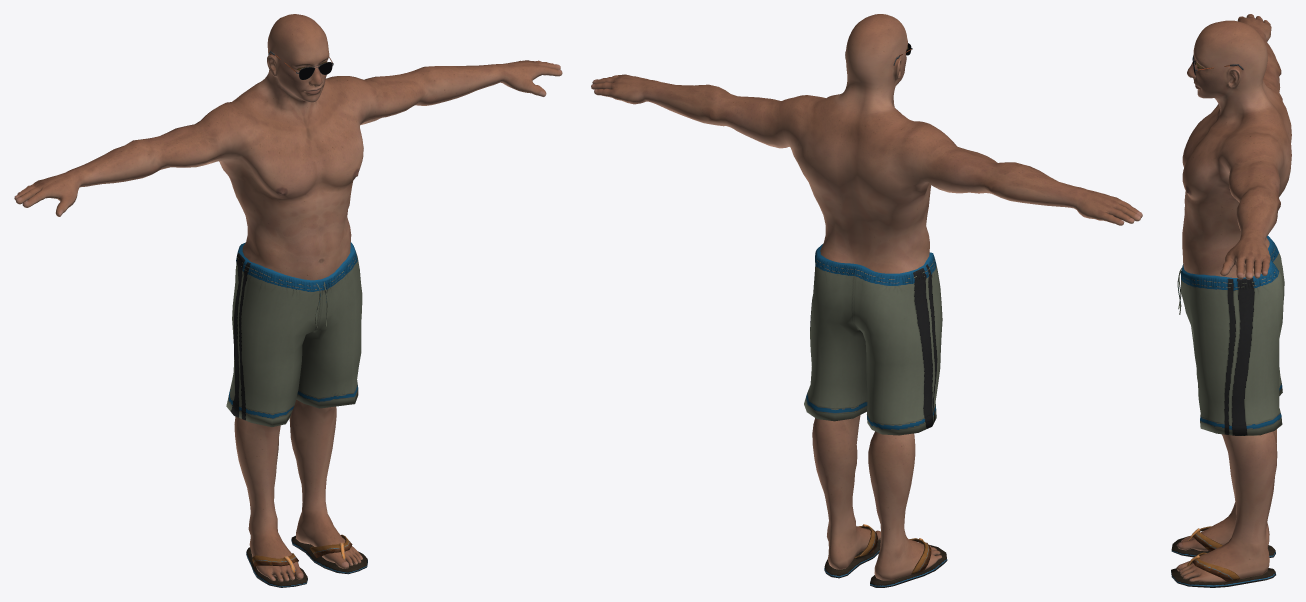
Rendered from hunk.fbx.
3 views of the same model, side by side, from view 1: azimuth 30°, elevation 25°; view 2: azimuth 150°, elevation 25°; view 3: azimuth 270°, elevation 25° (orthographic).
Parts seen in each view (by area): view 1: hunk; view 2: hunk; view 3: hunk.
Boxes of the visible parts, left/top/right/bottom form: hunk: left=14, top=14, right=562, bottom=587; hunk: left=591, top=14, right=1142, bottom=587; hunk: left=1171, top=14, right=1291, bottom=587.
Bounding box in the file's own units: 1887 × 1802 × 364.
5 materials, 5 textured.
